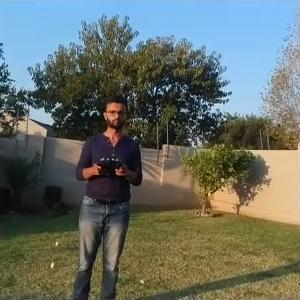follow: (66, 90, 147, 298)
